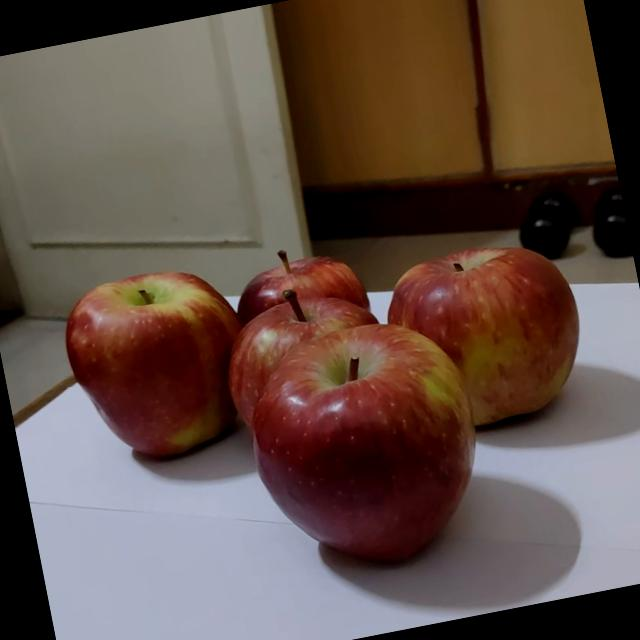apple: (224, 316, 506, 608), (386, 240, 614, 466), (62, 258, 274, 487), (220, 287, 414, 431), (237, 240, 396, 371)
